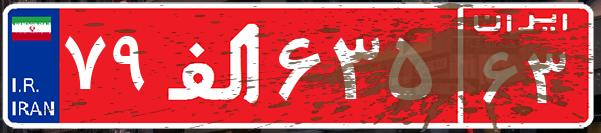3: (330, 28, 385, 110), (525, 38, 570, 115)
5: (385, 28, 445, 110)
6: (273, 28, 330, 110), (475, 38, 525, 113)
7: (57, 26, 110, 107)
9: (110, 28, 158, 105)
الف: (158, 15, 273, 115)
